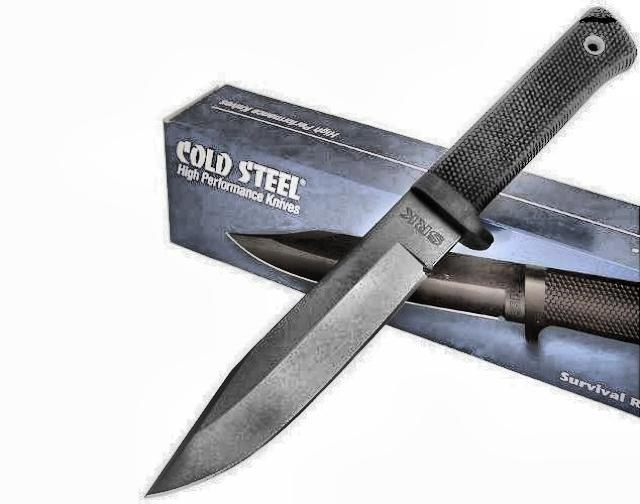knife: (138, 175, 466, 503)
